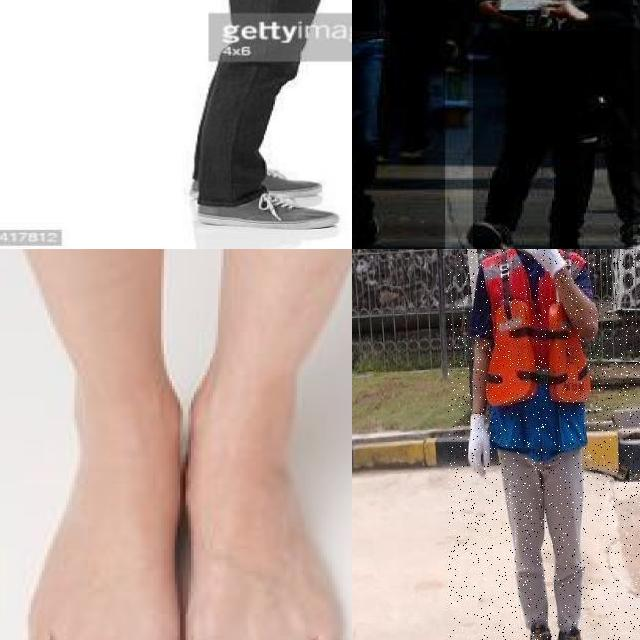Barefoots: (26, 390, 348, 640)
boots: (521, 617, 556, 640), (550, 624, 594, 640)
person: (448, 249, 640, 640), (473, 0, 635, 249), (187, 0, 352, 229), (352, 0, 447, 249), (568, 0, 640, 249)
shoes: (352, 180, 392, 249), (460, 213, 522, 249), (540, 220, 591, 249), (613, 212, 640, 249)
vest: (478, 249, 597, 464)
